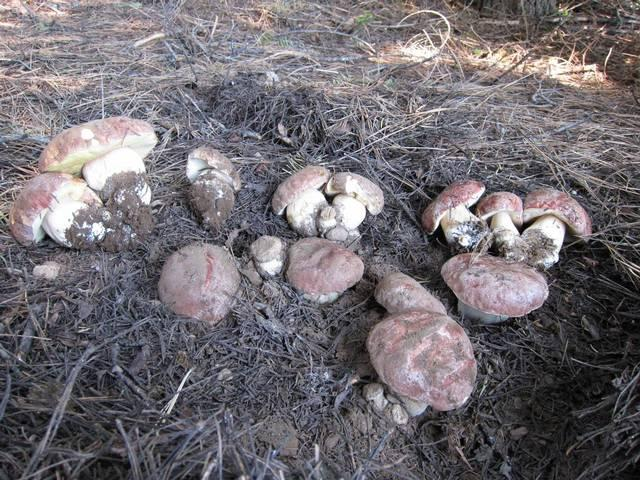Edible Mushroom: (421, 178, 592, 324), (9, 114, 157, 251), (371, 273, 485, 422), (270, 164, 388, 300), (157, 241, 241, 325), (181, 137, 249, 228)
